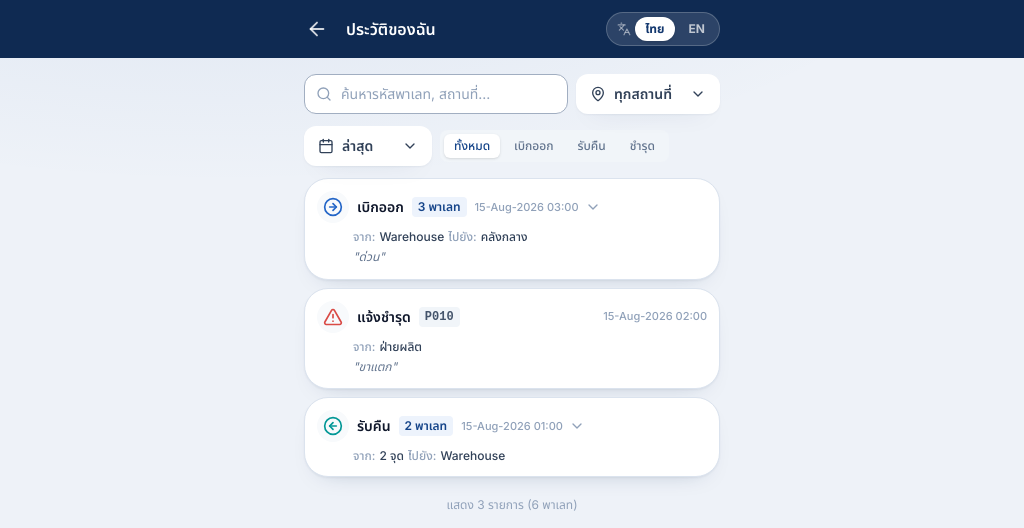
it: MobileHistory -- การจัดกลุ่มเป็นชุด › ค้นหารหัสพาเลท: ชุดที่ตรงกางเอง และป้ายบอกว่าเจอกี่พาเลทจากทั้งชุด
Expected: the text "3 พาเลท" is shown, [412, 197, 467, 217]
Type "P002" into the field named "ค้นหาประวัติของฉัน" at x=436, y=94, box [304, 74, 568, 114]
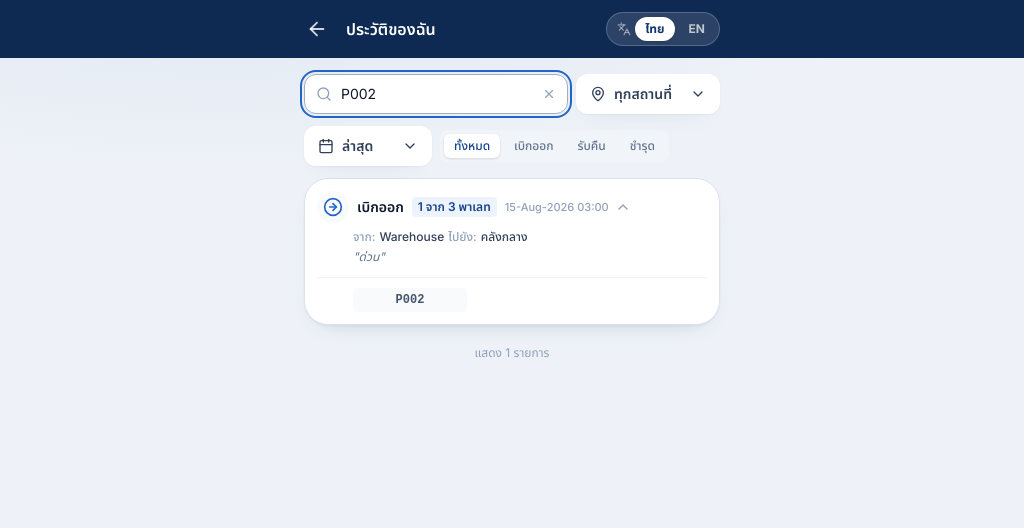
Expected: the list item "P002" is shown, [353, 288, 467, 312]
Expected: the text "1 จาก 3 พาเลท" is shown, [412, 197, 497, 217]
